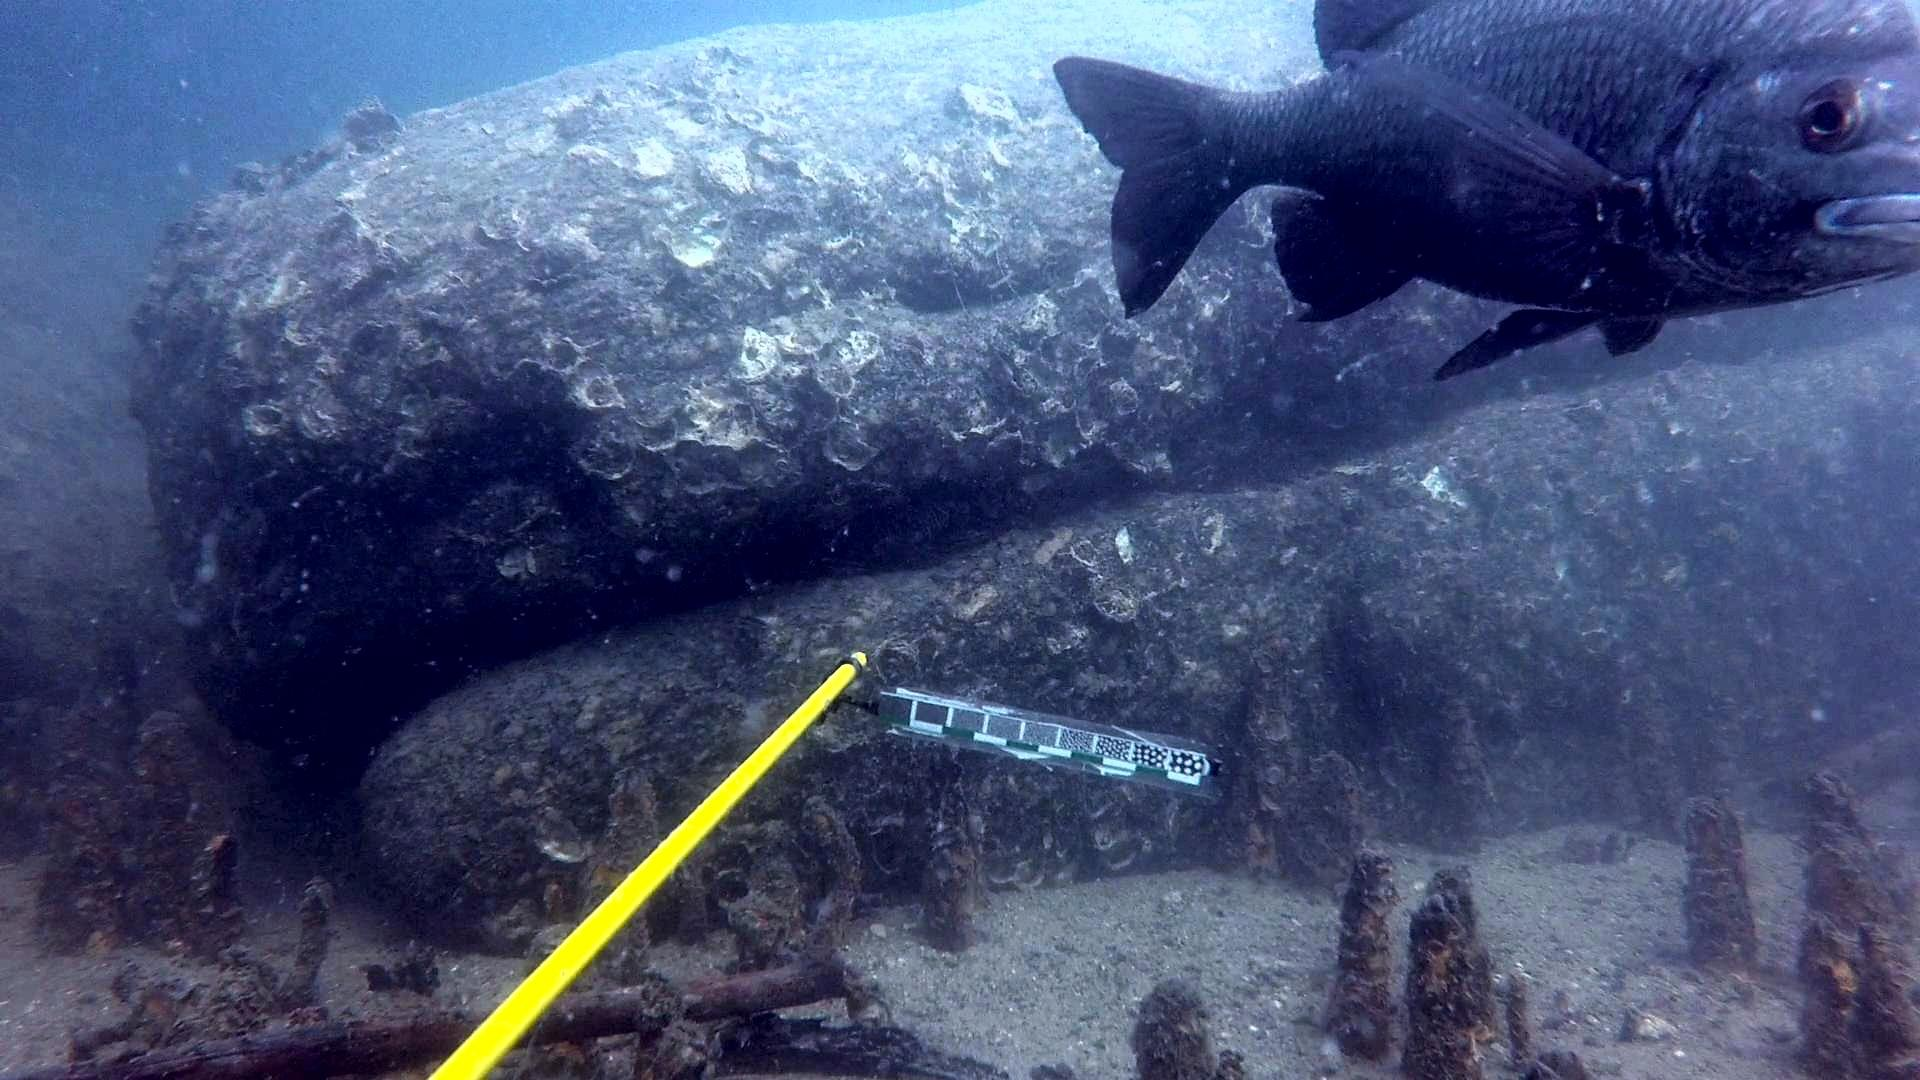acanthopagrus palmaris: (1043, 0, 1920, 388)
